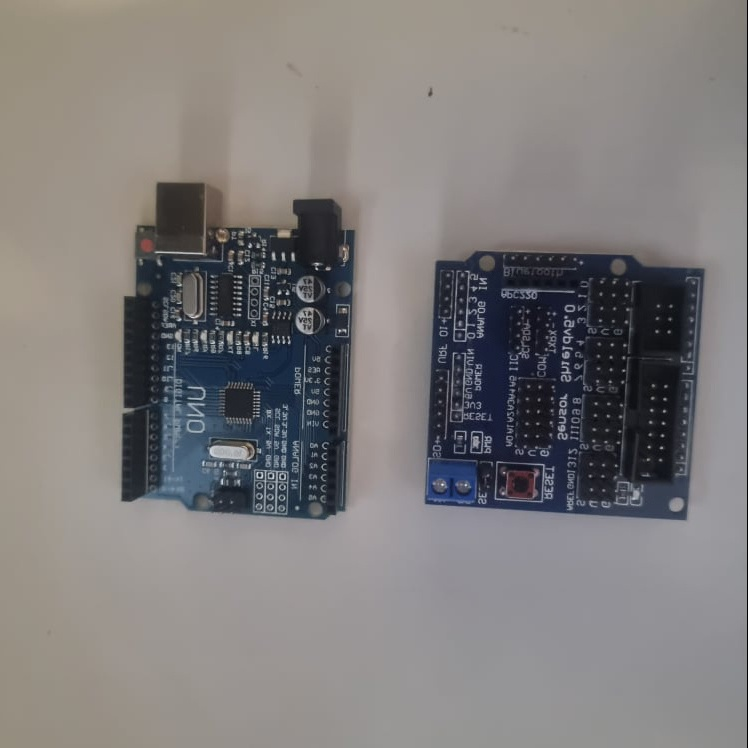5V EXPANSION: (422, 248, 709, 524)
UNO R3: (120, 182, 349, 527)
